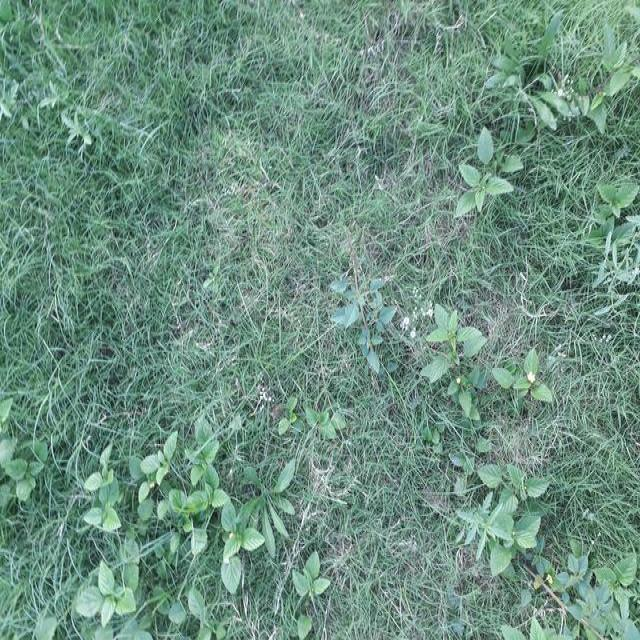weed: (0, 0, 327, 439), (340, 9, 640, 306), (315, 477, 503, 640)
